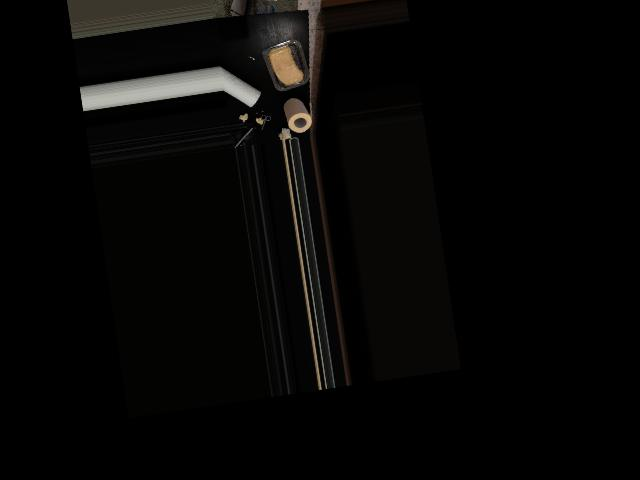cheese: (262, 37, 307, 93)
